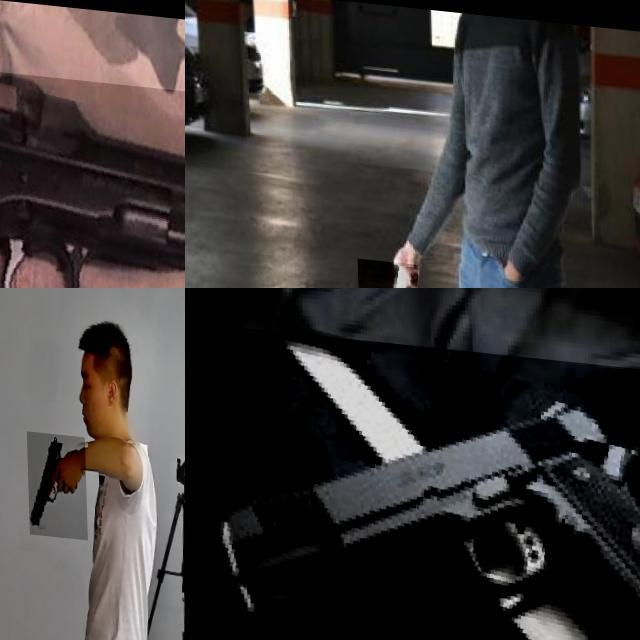-: (356, 252, 417, 288)
gun-knife-thesis - v11 Yolov5 augmented: (188, 322, 640, 640), (0, 46, 185, 288), (26, 428, 86, 536)
